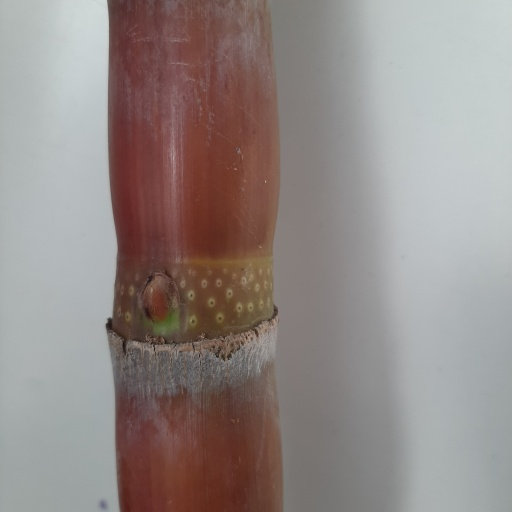Bud: (142, 273, 182, 327)
